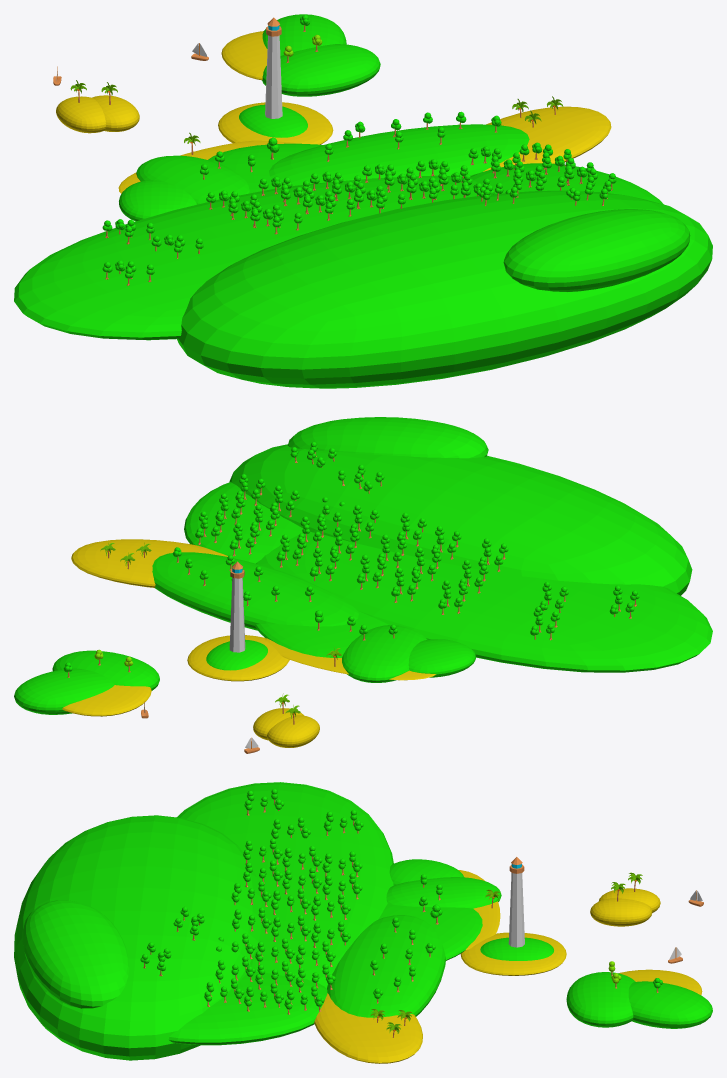
File: Mapa cocoJam.fbx
The picture shows the model from 3 angles, top to bottom: view 1: azimuth 30°, elevation 25°; view 2: azimuth 150°, elevation 25°; view 3: azimuth 270°, elevation 25°; orthographic projection. The views are drawn at different scales.
Visible parts, largest first — view 1: Pasto 10, Pasto 8, Pasto 11, Pasto 6, Pasto 2, Arena 5, Cylinder.022, Cylinder.023, Pasto 5, Pasto 9, Arena, Pasto 4 (+8 smaller); view 2: Pasto 10, Pasto 8, Pasto 6, Pasto 11, Pasto 9, Arena 5, Cylinder.022, Cylinder.023, Pasto 5, Pasto 3, Pasto 7, Pasto 2 (+8 smaller); view 3: Pasto 10, Pasto 8, Pasto 11, Pasto 6, Pasto 9, Arena 5, Cylinder.022, Cylinder.023, Pasto 3, Pasto 2, Pasto 5, Pasto 7 (+8 smaller).
Part boxes in pixels (x1,y1,x2,y2): Pasto 10: [177, 190, 712, 388]; Pasto 8: [14, 175, 478, 340]; Pasto 11: [503, 209, 690, 291]; Pasto 6: [269, 124, 529, 185]; Pasto 2: [262, 44, 380, 96]; Arena 5: [483, 106, 611, 171]; Cylinder.022: [206, 171, 405, 234]; Cylinder.023: [416, 142, 616, 197]; Pasto 5: [136, 155, 249, 204]; Pasto 9: [470, 163, 663, 204]; Arena: [218, 102, 333, 144]; Pasto 4: [119, 180, 196, 221]; Pasto 10: [229, 444, 692, 595]; Pasto 8: [256, 531, 712, 672]; Pasto 6: [152, 552, 358, 630]; Pasto 11: [287, 417, 488, 458]; Pasto 9: [184, 482, 302, 563]; Arena 5: [71, 539, 227, 587]; Cylinder.022: [357, 513, 508, 614]; Cylinder.023: [195, 474, 345, 567]; Pasto 5: [342, 625, 427, 682]; Pasto 3: [14, 668, 114, 714]; Pasto 7: [255, 611, 388, 657]; Pasto 2: [52, 650, 159, 690]; Pasto 10: [14, 815, 261, 1060]; Pasto 8: [177, 782, 393, 988]; Pasto 11: [22, 900, 129, 1008]; Pasto 6: [327, 915, 445, 1017]; Pasto 9: [168, 971, 327, 1045]; Arena 5: [314, 993, 422, 1063]; Cylinder.022: [231, 838, 362, 920]; Cylinder.023: [204, 933, 335, 1014]; Pasto 3: [628, 981, 712, 1028]; Pasto 2: [566, 972, 635, 1027]; Pasto 5: [386, 877, 501, 908]; Pasto 7: [378, 904, 482, 960].
Size of the model in its own units: 185 by 45.95 by 196.
